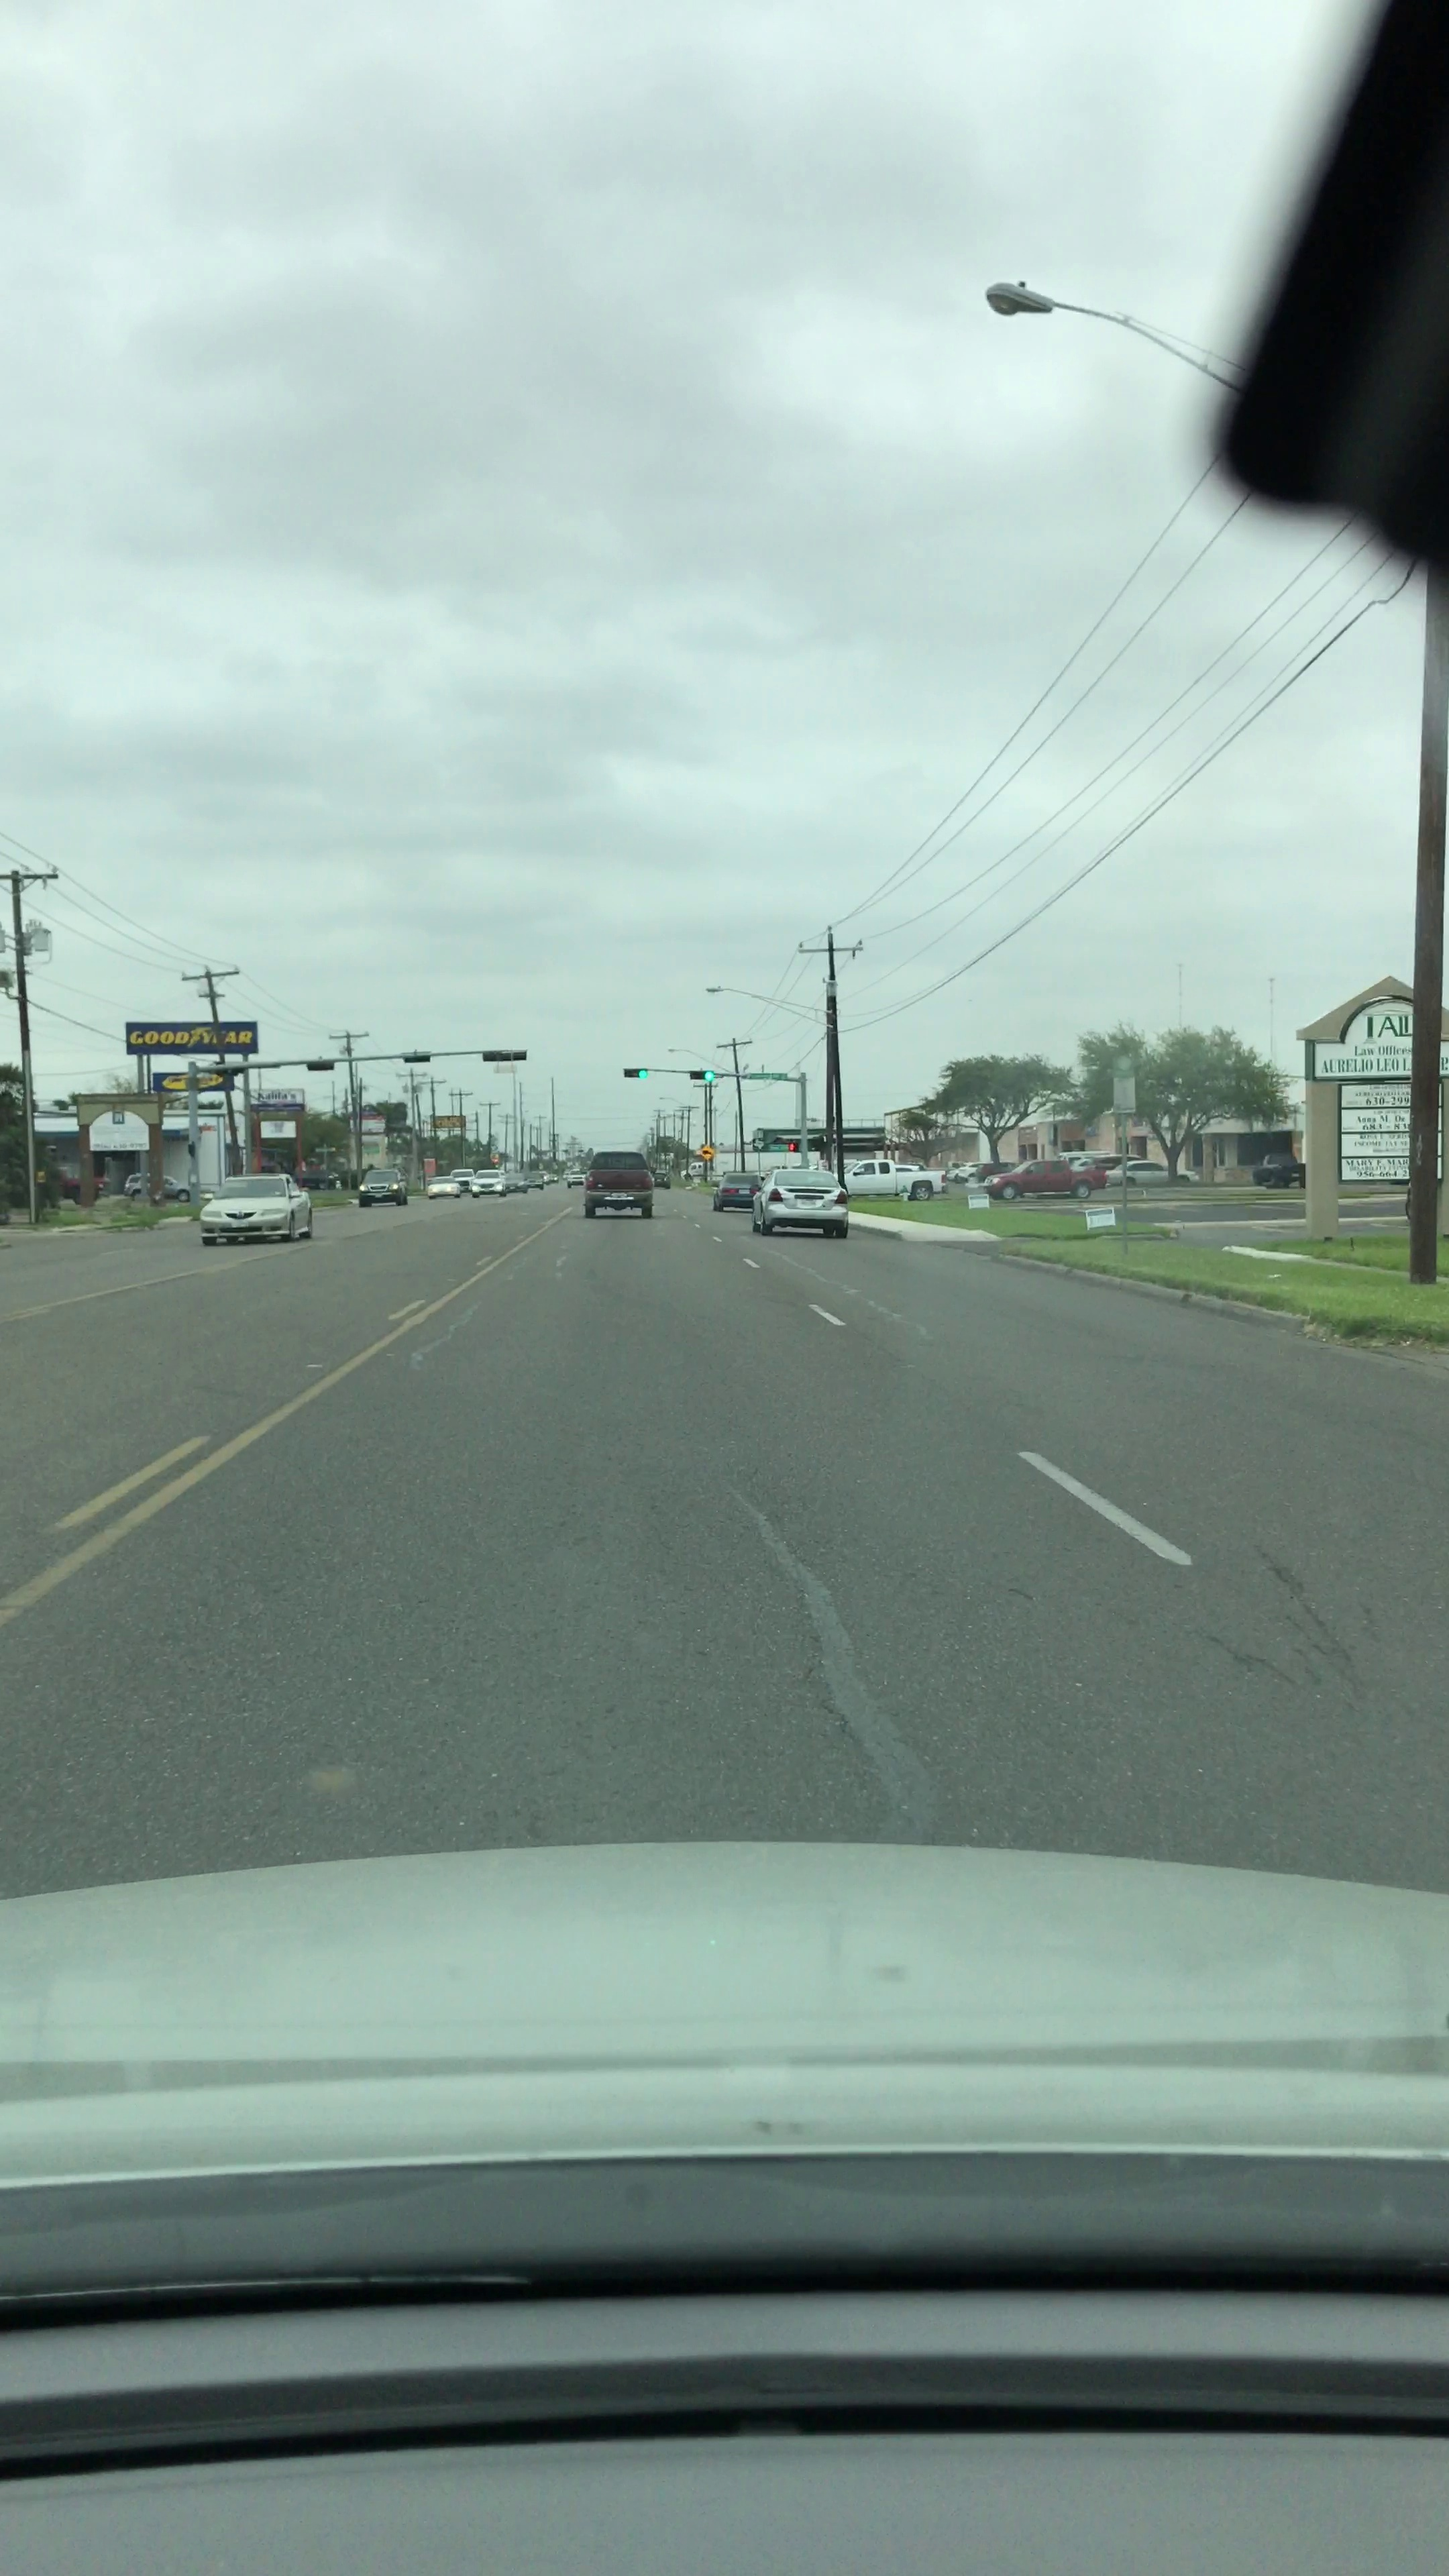crack: (1184, 1513, 1396, 1720), (764, 1562, 888, 1767)
